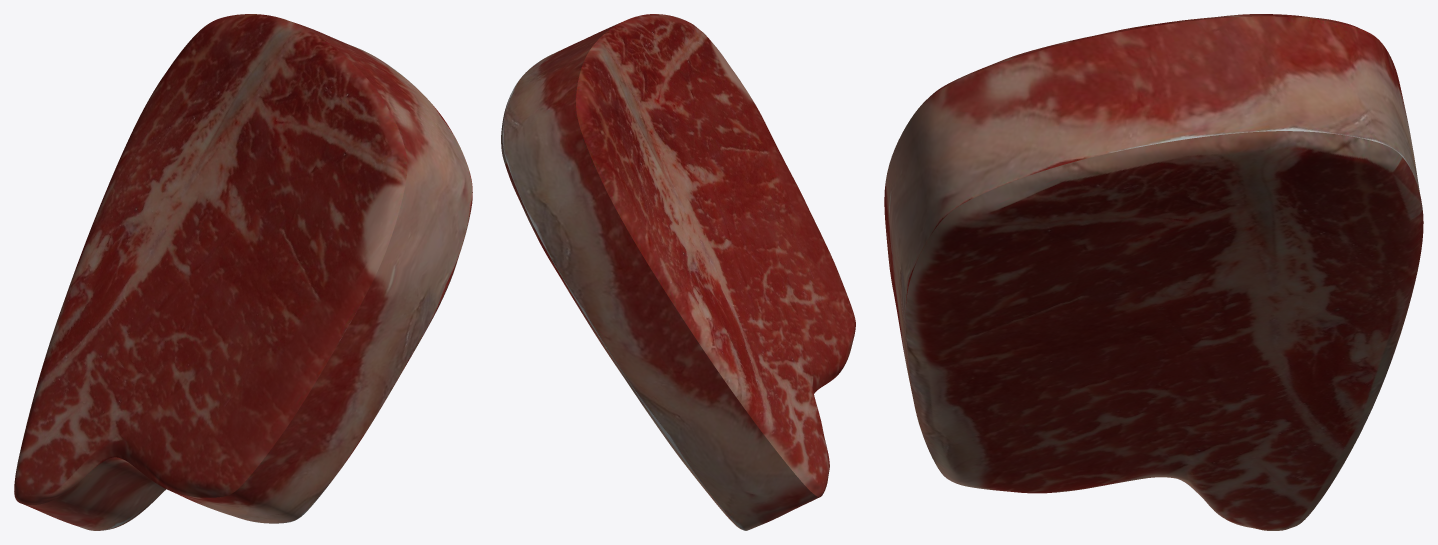
Rendered from steak.glb.
3 views of the same model, side by side, from view 1: azimuth 30°, elevation 25°; view 2: azimuth 150°, elevation 25°; view 3: azimuth 270°, elevation 25° (orthographic). The views are drawn at different scales.
Parts seen in each view (by area): view 1: node-0; view 2: node-0; view 3: node-0.
Part boxes in pixels (box(x1,y1,x2,y2)): node-0: box(14, 14, 472, 530); node-0: box(501, 14, 855, 530); node-0: box(884, 14, 1423, 530).
Bounding box in the file's own units: 2.56 × 3.28 × 2.52.
1 material, 1 textured.
